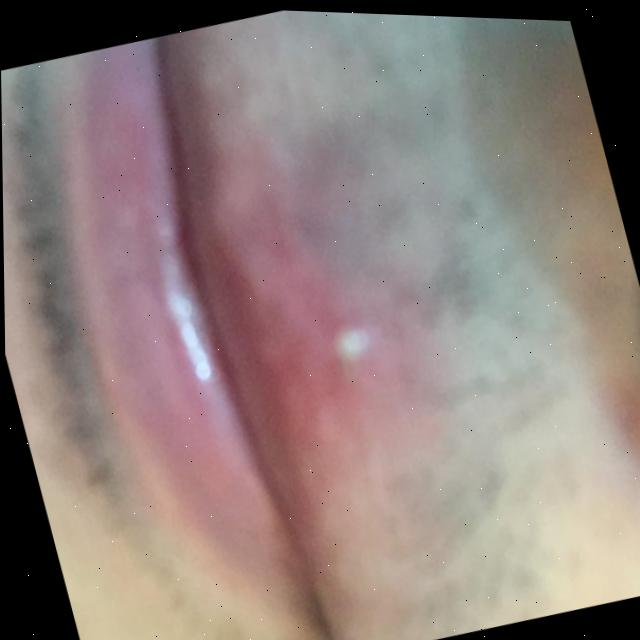Acne: (334, 322, 372, 360)
